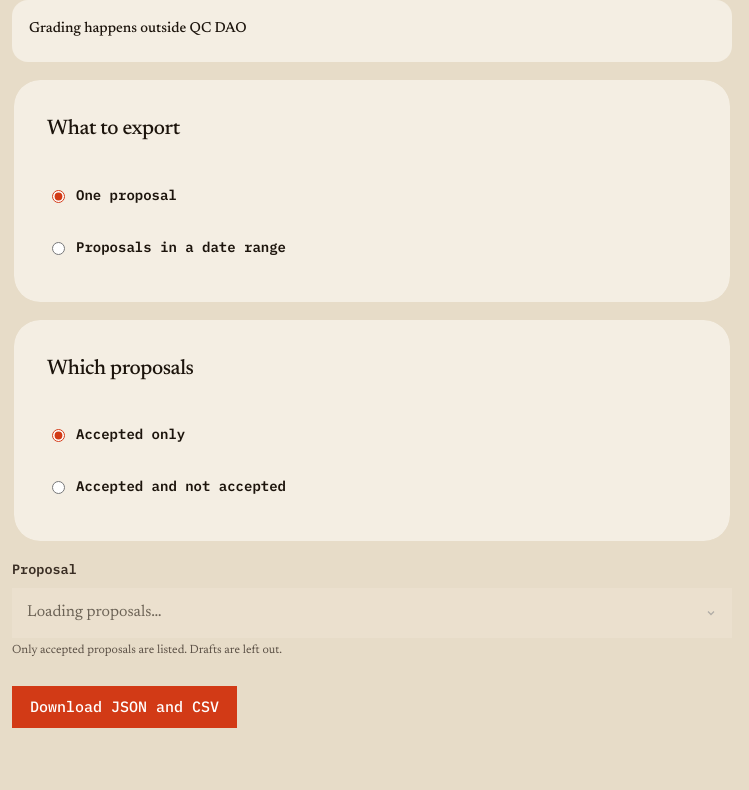
it: QCDAO-107 proposal export panel › shows the reason an export was refused and does not download a file
The width and height of the screenshot is (749, 790).
Click the radio button labelled "Accepted and not accepted": [58, 488] box [52,481,65,494]
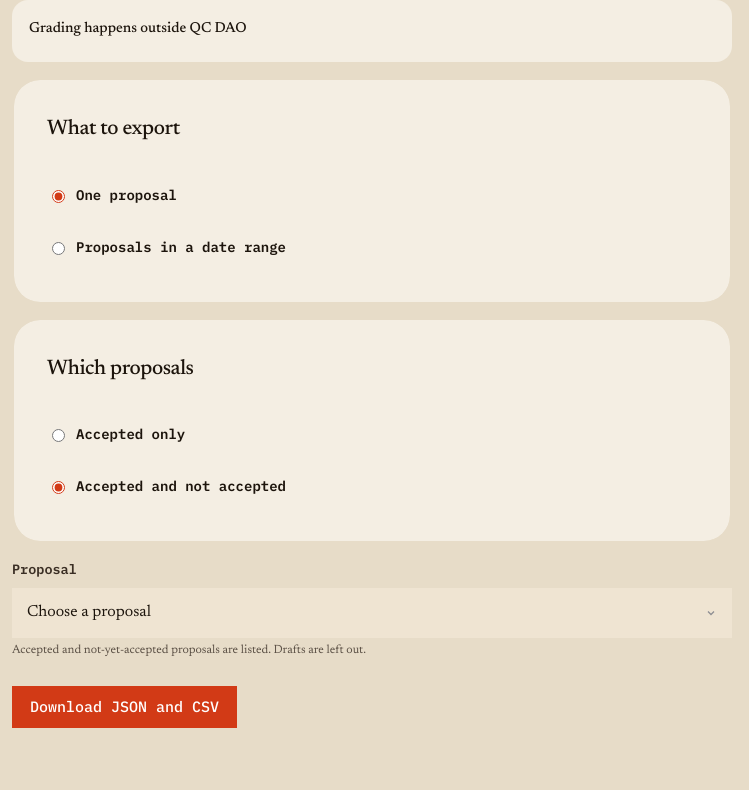
Select "Annealing study — Submitted · Routing study" in the dropdown labelled "Proposal": [372, 613] box [12,588,732,638]
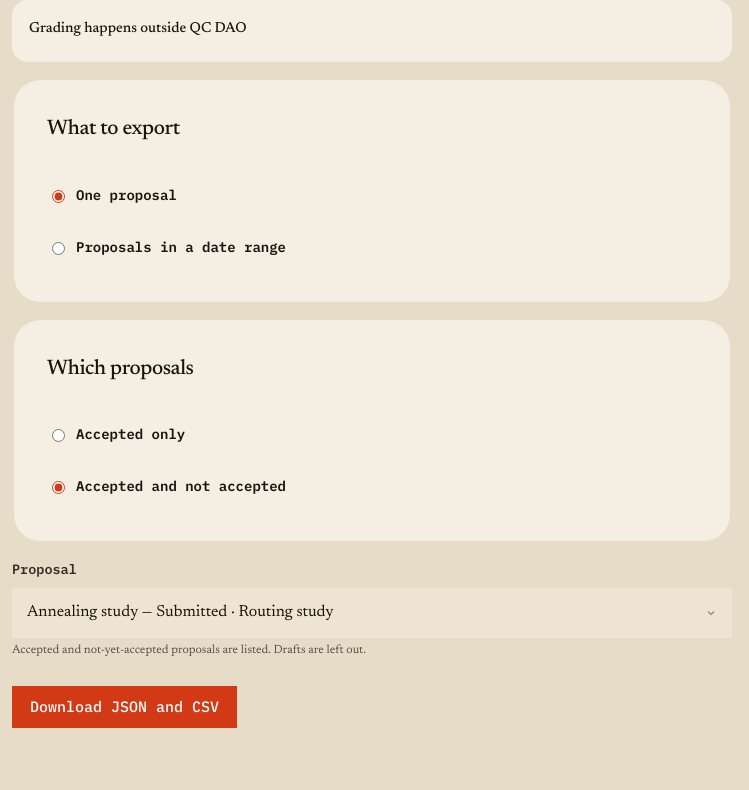
Click the button "Download JSON and CSV": [124, 707] box [12,686,237,728]
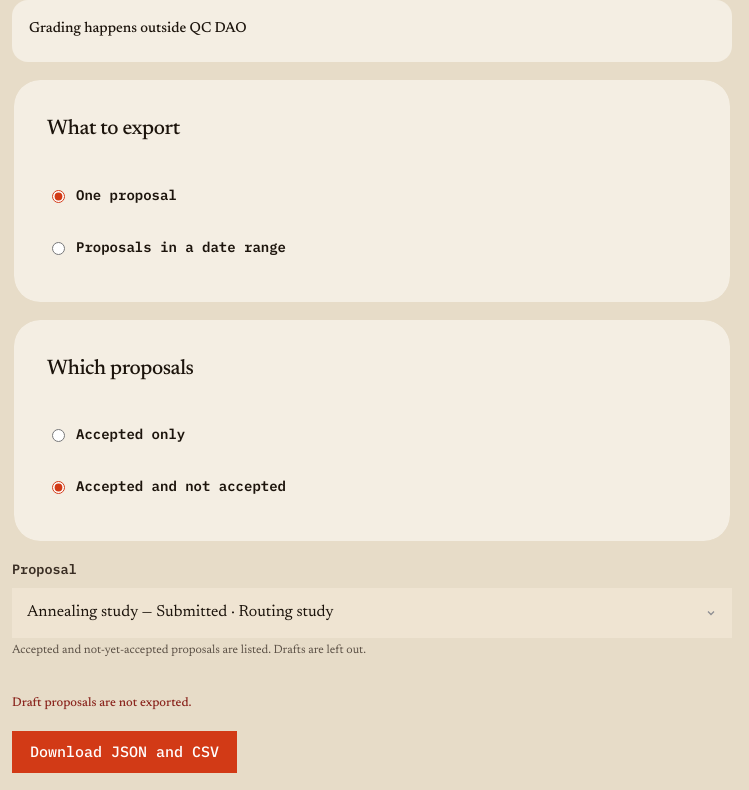
Now the message shows "Draft proposals", box [12,697,192,709]
